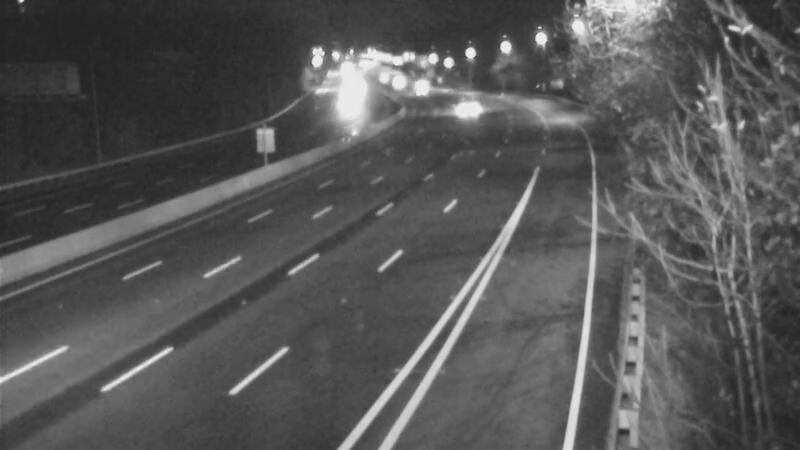vehicle: (356, 56, 406, 106), (369, 57, 419, 107), (394, 61, 444, 111), (396, 70, 446, 120), (436, 84, 486, 134), (325, 73, 375, 123)
